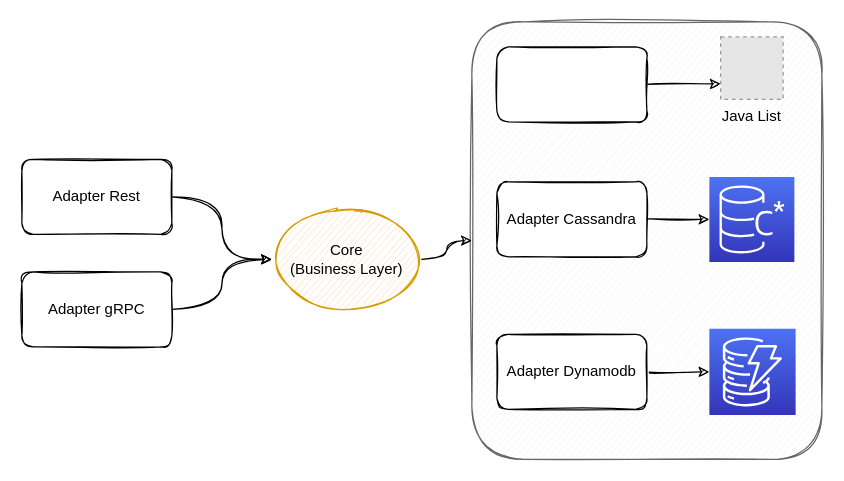
Some shapes in this 844 by 481 pixel diagram are drawn without their labels. Grey dashed boxes stand in for pictures. Here are the shapes that lost their labels. From the top down, the centre of each, then its label:
At (x=571, y=84): "Adapter List".
At (x=751, y=219): "AWS Keyspaces".
At (x=752, y=371): "AWS DynamoDB".
